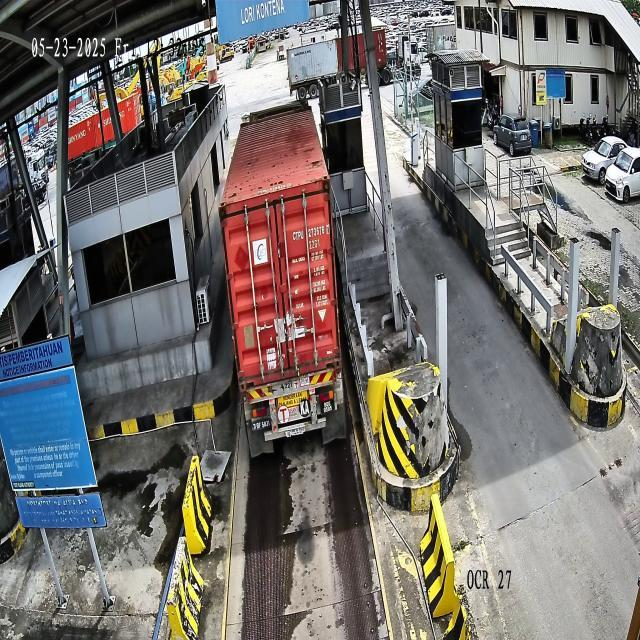ISO: (308, 238, 320, 252)
container_number: (292, 219, 332, 244)
